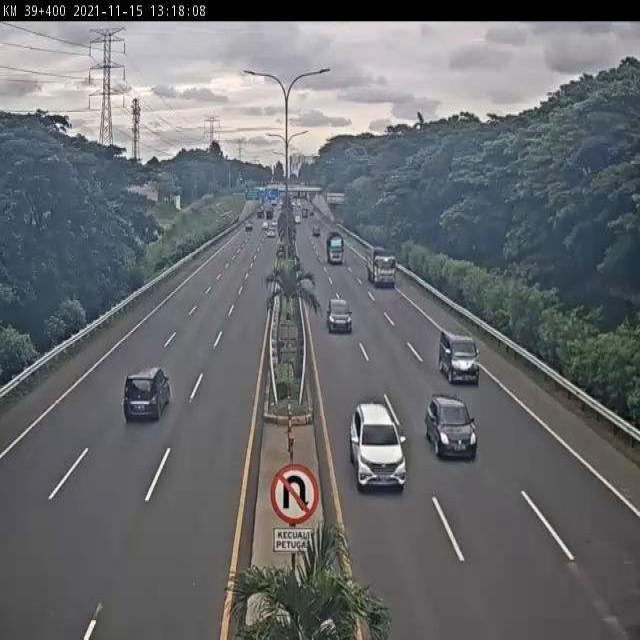car: (349, 400, 407, 487), (425, 394, 479, 462), (123, 366, 174, 422), (438, 325, 479, 384), (327, 297, 354, 336)
